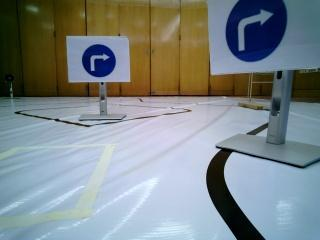right: (213, 1, 318, 73), (71, 36, 124, 85)
